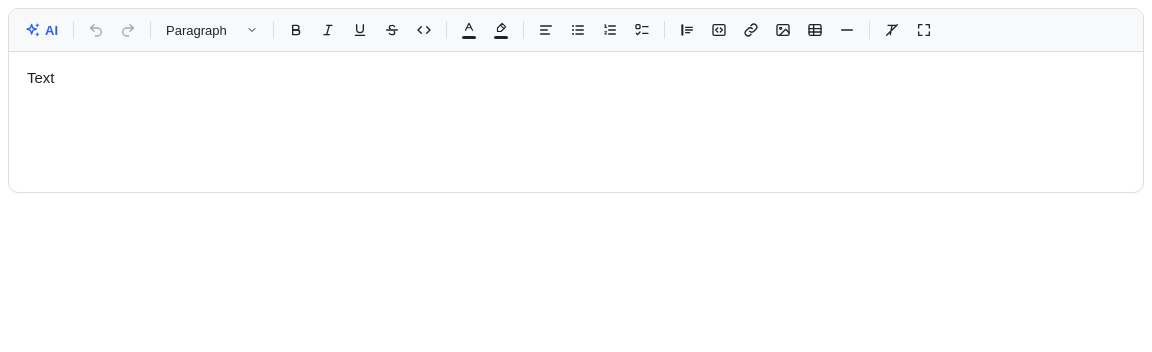
Test: AI assistant › shows an error and lets the writer retry or discard
The image size is (1152, 352).
expect the field with class "richkit-content" is shown: met, box [27,69,54,86]
Click the button with aria-label "Ask AI" at (42, 30), box [17,15,66,45]
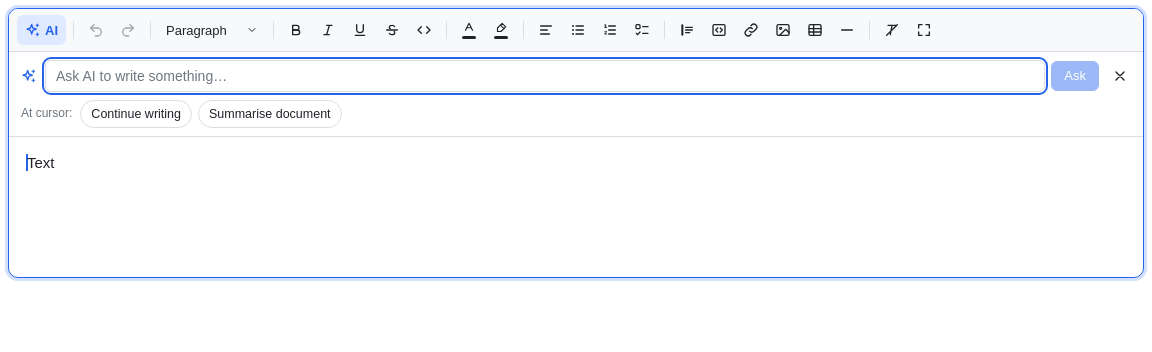
Click the button "Summarise document" at (270, 114), box [198,100,342,128]
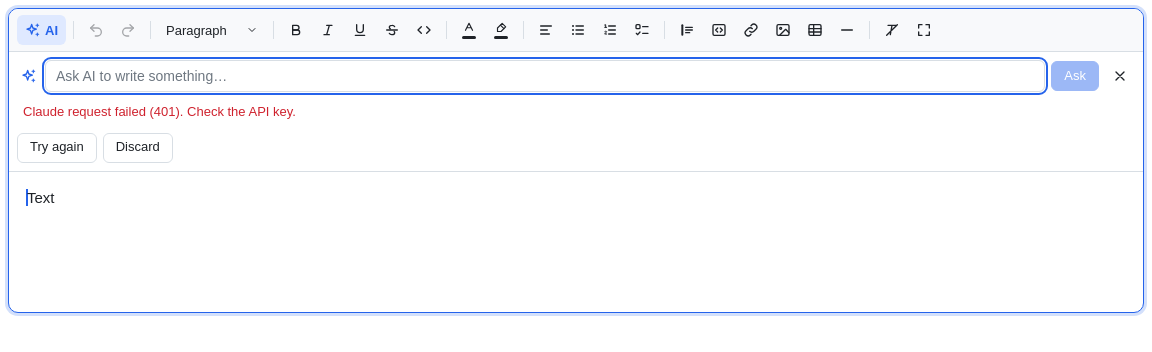
expect the button "Insert" is not shown: met
expect the message shows "Check the API key": met, box [23,104,296,119]
Click the button "Try again" at (57, 148), box [17,133,97,163]
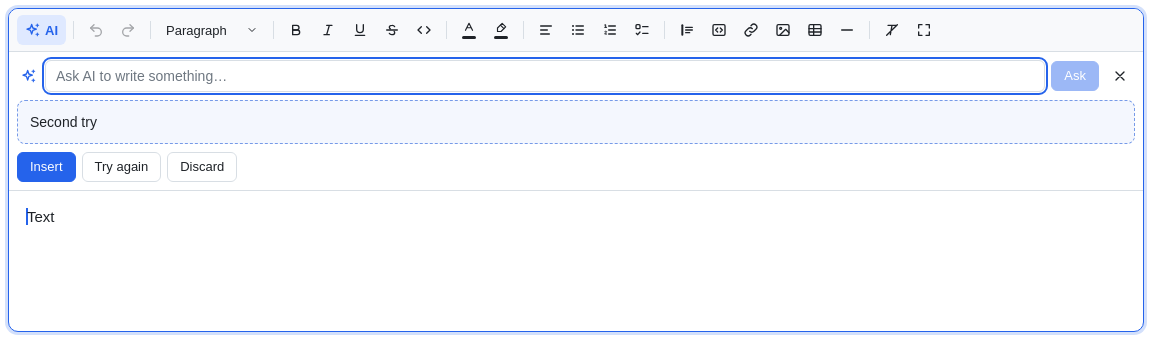
expect the button "Insert" is shown: met, box [17,152,76,182]
Click the button "Discard" at (202, 167), box [167,152,237,182]
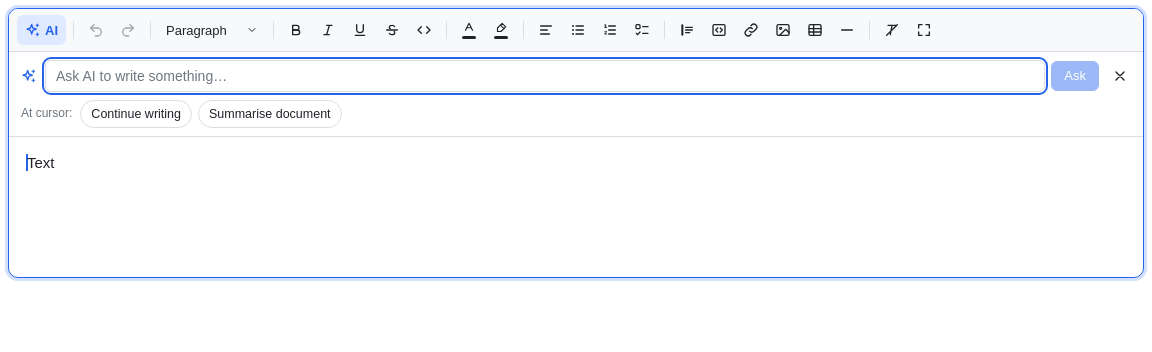
expect the button "Insert" is gone: met
